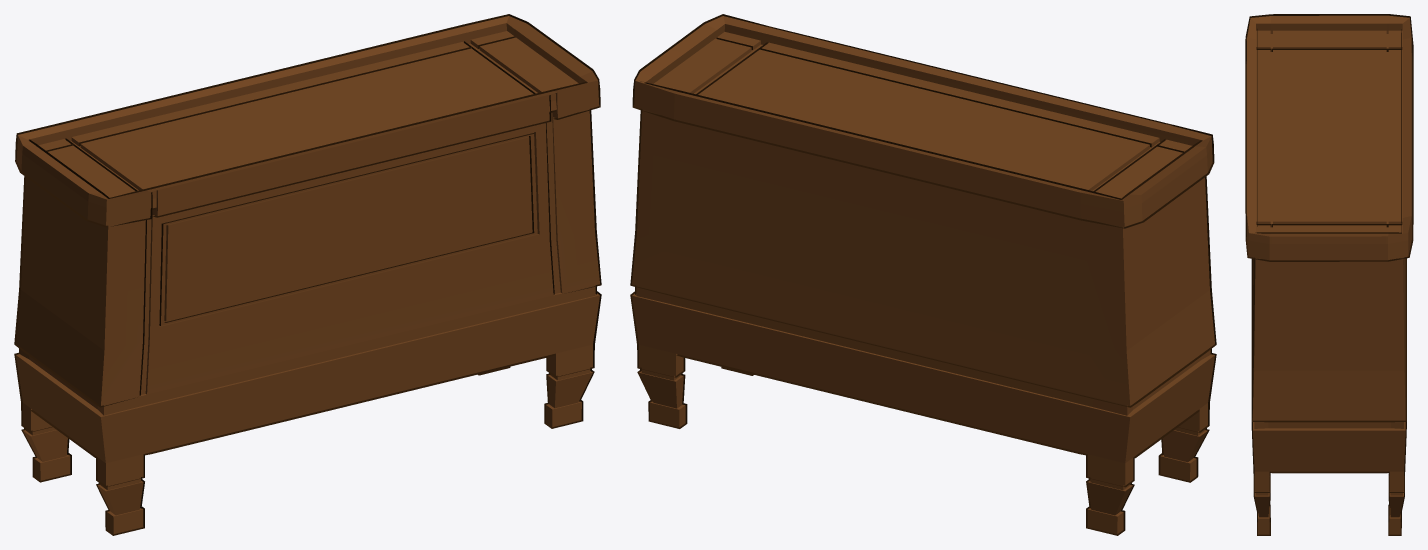
File: AlterTall_(Outlined)v002.fbx
3 views of the same model, side by side, from view 1: azimuth 30°, elevation 25°; view 2: azimuth 150°, elevation 25°; view 3: azimuth 270°, elevation 25° (orthographic). The views are drawn at different scales.
Parts seen in each view (by area): view 1: Alter; view 2: Alter; view 3: Alter.
Part boxes in pixels (x1=…): Alter: x1=14, y1=14, x2=601, y2=535; Alter: x1=630, y1=14, x2=1216, y2=535; Alter: x1=1245, y1=14, x2=1413, y2=535.
Bounding box in the file's own units: 593 × 383 × 189.
